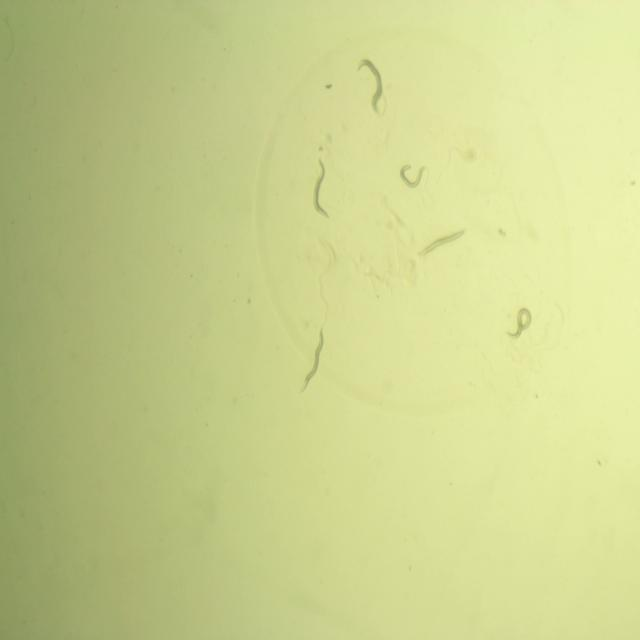worm: (414, 220, 468, 264), (297, 322, 327, 396), (354, 53, 386, 119), (306, 154, 333, 226), (504, 297, 536, 345), (395, 153, 430, 193)
